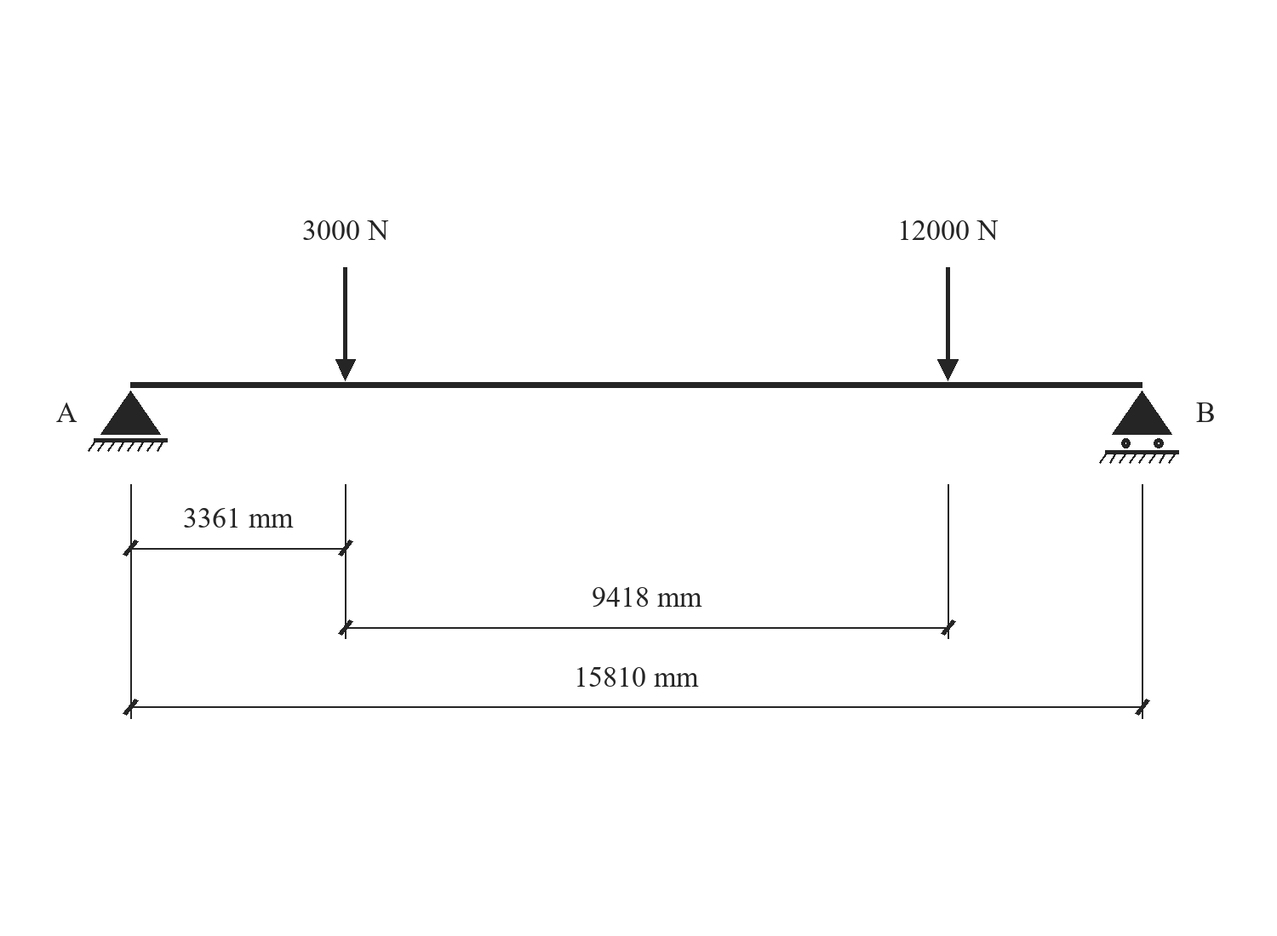pin_support: (88, 391, 168, 452)
point_load: (937, 267, 959, 381), (335, 267, 356, 381)
roller_support: (1099, 391, 1179, 464)
